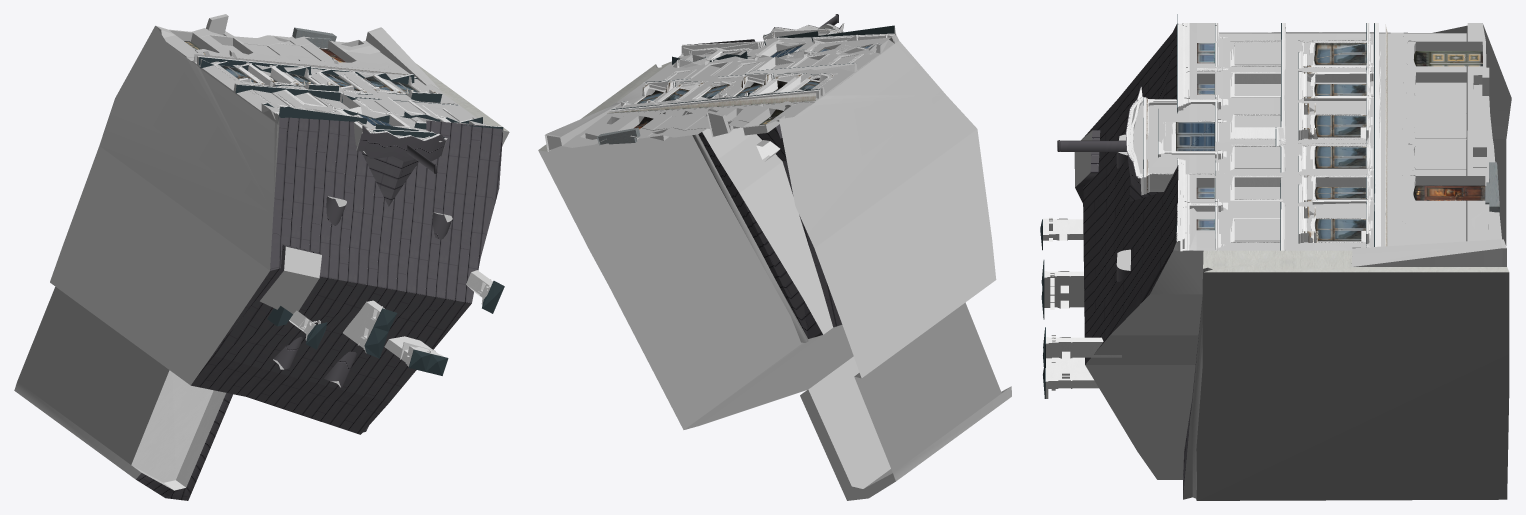
File: Vanaturu_kael_10-origo.obj
3 views of the same model, side by side, from view 1: azimuth 30°, elevation 25°; view 2: azimuth 150°, elevation 25°; view 3: azimuth 270°, elevation 25° (orthographic). The views are drawn at different scales.
Parts seen in each view (by area): view 1: Vanaturu_kael_10; view 2: Vanaturu_kael_10; view 3: Vanaturu_kael_10.
Part boxes in pixels (x1,y1,x2,y2): Vanaturu_kael_10: (14, 14, 509, 500); Vanaturu_kael_10: (538, 14, 1011, 500); Vanaturu_kael_10: (1040, 14, 1511, 500).
Size of the model in its own units: 23.56 by 23 by 20.76.
